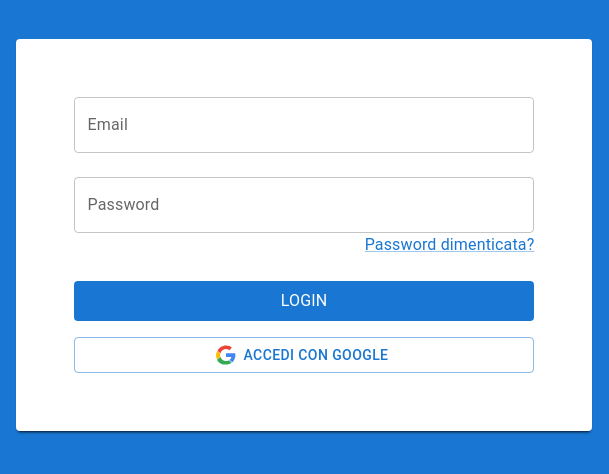
Test: LoginForm › submit form without inputs
What coordinates should you click on to do the following:
click the button "LOGIN"
I would click on:
 (304, 301)
Its box is [74,281,534,321].
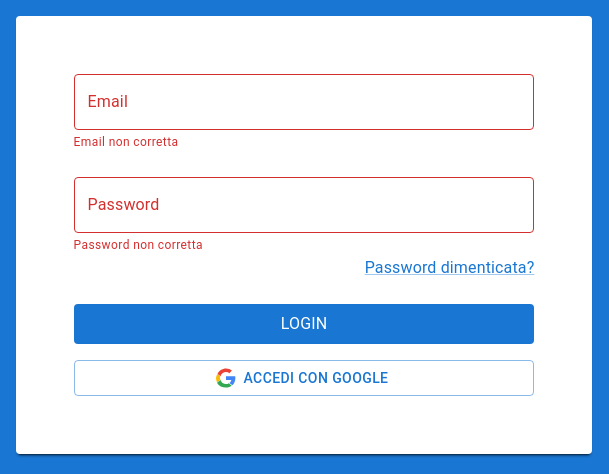
Now the text "Email non corretta" is shown, box [74,133,178,153]
Now the text "Password non corretta" is shown, box [74,236,203,256]
